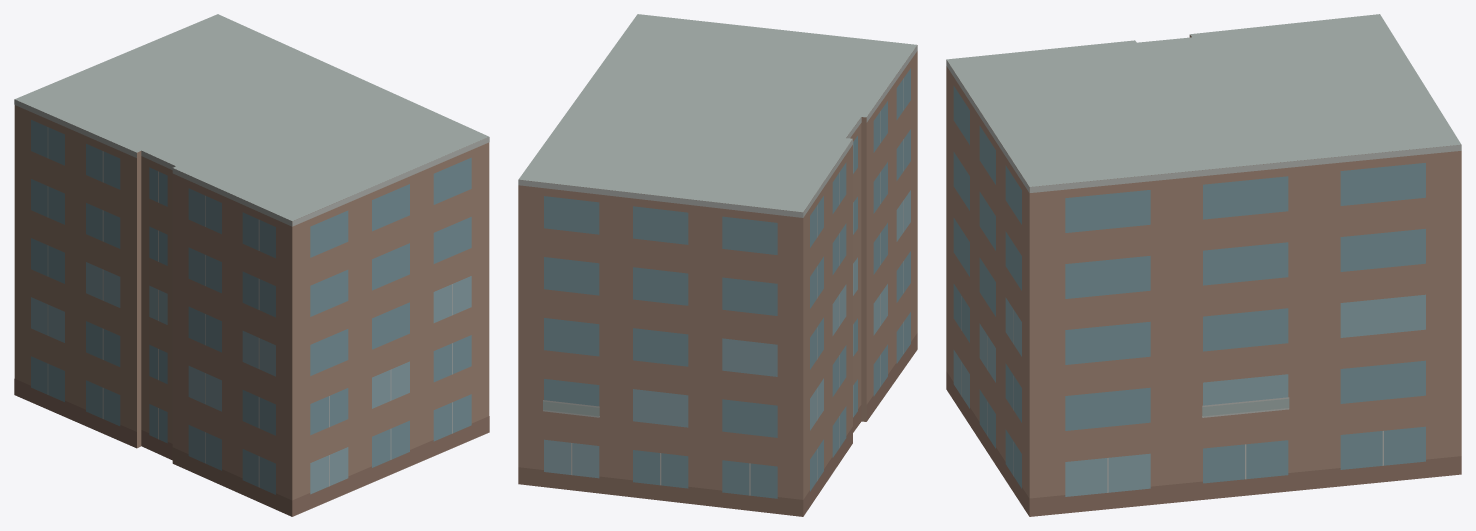
Rendered from survey-upis-32601702.glb.
3 views of the same model, side by side, from view 1: azimuth 30°, elevation 25°; view 2: azimuth 150°, elevation 25°; view 3: azimuth 270°, elevation 25° (orthographic). The views are drawn at different scales.
Parts seen in each view (by area): view 1: survey-upis-32601702.tmp; view 2: survey-upis-32601702.tmp; view 3: survey-upis-32601702.tmp.
Boxes of the visible parts, box(x1,y1,x2,y2) form: survey-upis-32601702.tmp: box(14, 14, 489, 516); survey-upis-32601702.tmp: box(518, 14, 917, 516); survey-upis-32601702.tmp: box(946, 14, 1461, 516).
Bounding box in the file's own units: 14.75 × 13.1 × 18.55.
